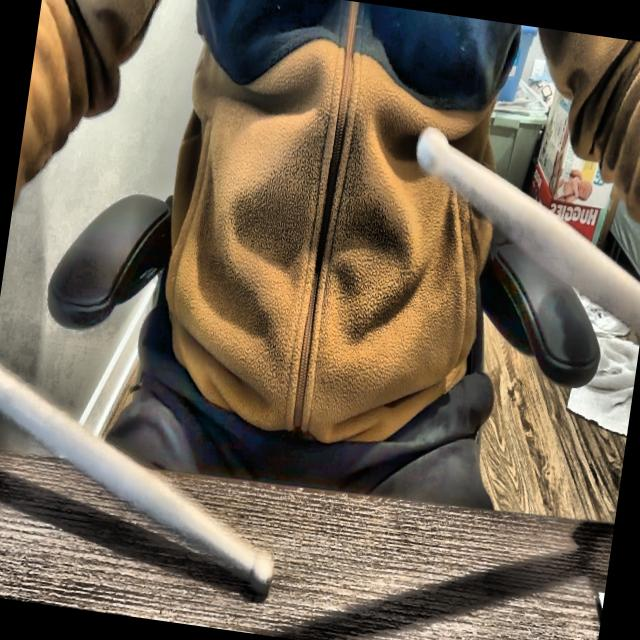Drumstick-Heads: (406, 121, 456, 190), (246, 546, 278, 602)
